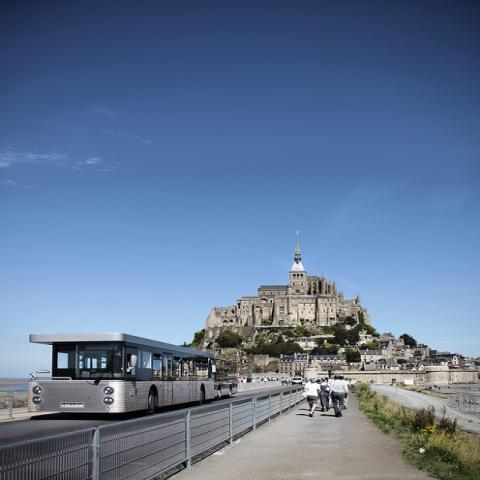bus: (28, 336, 217, 423)
car: (289, 377, 303, 385)
